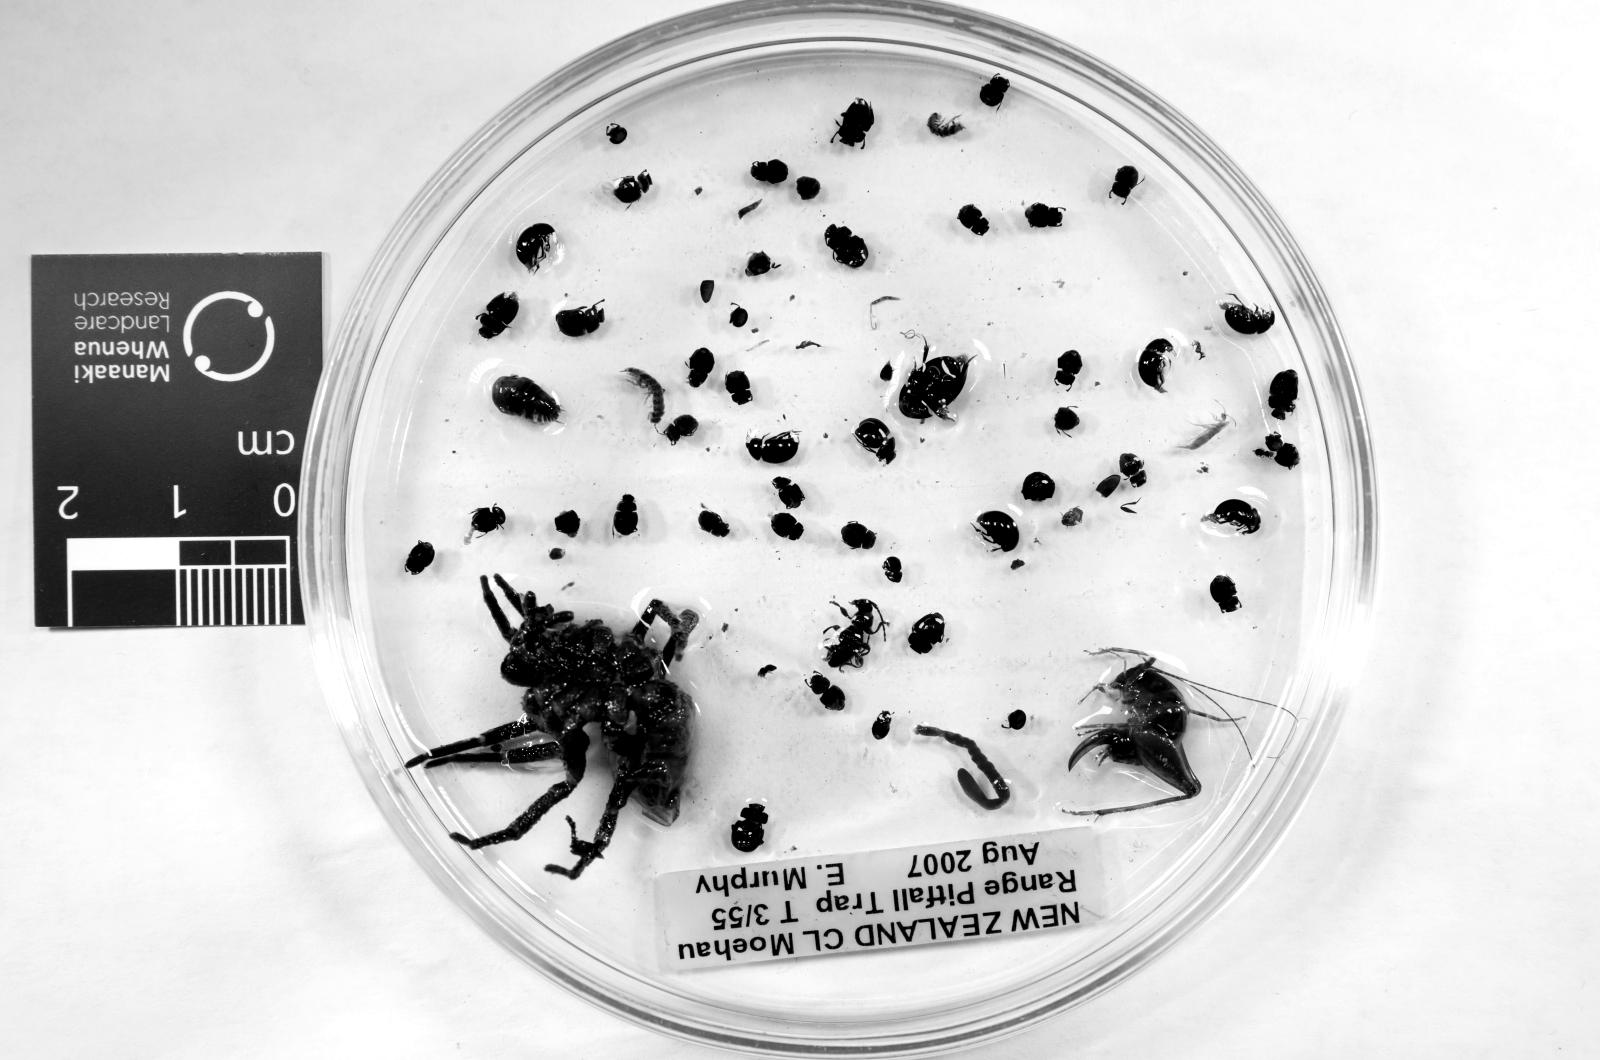annelida: (915, 726, 1010, 810)
araneae: (407, 575, 697, 879)
coleoptera: (896, 357, 974, 419), (825, 600, 887, 667), (831, 99, 875, 146), (1203, 500, 1259, 535), (853, 419, 896, 463), (825, 224, 869, 267), (478, 292, 519, 338), (1138, 338, 1172, 394), (1219, 302, 1275, 336), (516, 224, 553, 273), (731, 804, 769, 854), (972, 512, 1018, 550), (603, 170, 653, 205), (1265, 369, 1300, 419), (556, 302, 603, 336), (747, 432, 797, 463), (909, 612, 944, 655), (807, 674, 847, 711), (613, 493, 641, 537), (1109, 164, 1141, 202), (687, 348, 715, 388), (1265, 435, 1300, 468), (1054, 351, 1084, 388), (1210, 575, 1241, 612), (978, 75, 1010, 109), (957, 205, 991, 237), (662, 413, 697, 444), (772, 476, 803, 509), (1025, 202, 1062, 230), (1119, 453, 1147, 487), (472, 506, 506, 535), (697, 509, 731, 537), (841, 522, 875, 550), (750, 159, 788, 183), (725, 373, 753, 403), (772, 512, 803, 541), (881, 556, 903, 584), (872, 711, 890, 739)
collembola: (1178, 413, 1229, 451)
isopoda: (491, 376, 559, 422), (626, 369, 666, 426), (928, 111, 963, 137)
orthoptera: (1069, 655, 1200, 816)
